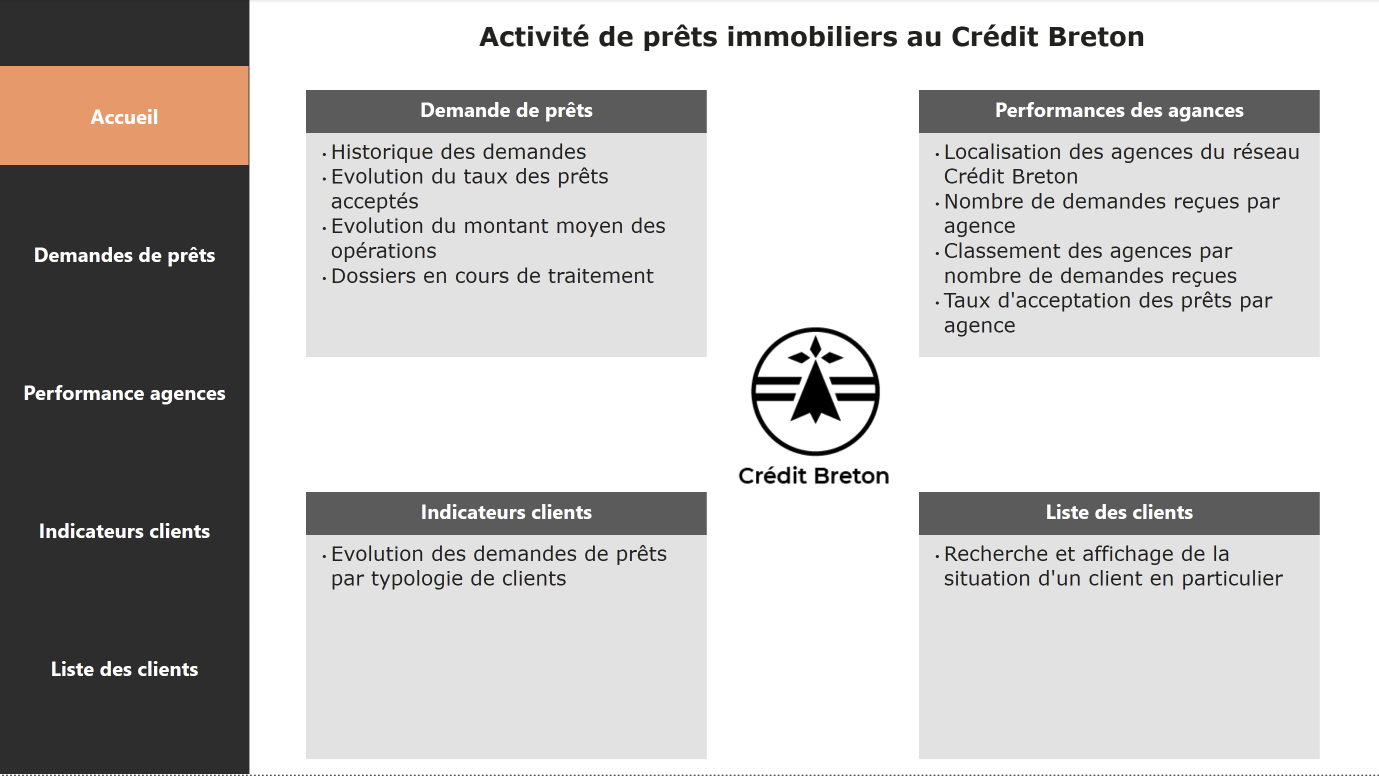

The dashboard page shown, as its layout file describes it:
{"tool":"powerbi","page":{"name":"Accueil","canvas":[1280,720],"ordinal":0},"visuals":[{"type":"shape","box":[0,0,231.7,719.5],"z":0},{"type":"textbox","box":[283.7,84.1,372,40.1],"z":0,"group":"g1"},{"type":"textbox","box":[853.2,84.7,372,40.1],"z":0,"group":"g2"},{"type":"textbox","box":[283.7,457.3,372,40.1],"z":0,"group":"g3"},{"type":"textbox","box":[853.2,457.9,372,40.1],"z":0,"group":"g4"},{"type":"pageNavigator","box":[0,62.2,231.7,607.3],"z":1000,"group":"g5"},{"type":"textbox","box":[283.7,124.2,372,207.9],"z":1000,"group":"g1"},{"type":"textbox","box":[853.2,124.8,372,207.9],"z":1000,"group":"g2"},{"type":"image","box":[644.1,256.1,249.2,243.1],"z":1000},{"type":"textbox","box":[283.7,497.4,372,207.9],"z":1000,"group":"g3"},{"type":"textbox","box":[853.2,498,372,207.9],"z":1000,"group":"g4"},{"type":"textbox","box":[295.1,14.6,917.1,47.6],"z":2000},{"type":"group","id":"g1","title":"Groupe 1","box":[283.7,84.1,372,248],"z":3000},{"type":"group","id":"g2","title":"Groupe 1","box":[853.2,84.7,372,248],"z":4000},{"type":"group","id":"g3","title":"Groupe 1","box":[283.7,457.3,372,248],"z":5000},{"type":"group","id":"g4","title":"Groupe 1","box":[853.2,457.9,372,248],"z":6000},{"type":"group","id":"g5","title":"Groupe 2","box":[0,62.2,231.7,607.3],"z":7000}]}

Visuals, with their boxes in screenshot pixels (x1, y1, x2, y2), scaled from the page's 1280x720 canvas onto the 1379x776 screenshot:
shape: {"x1": 0, "y1": 0, "x2": 250, "y2": 775}
textbox: {"x1": 306, "y1": 91, "x2": 706, "y2": 134}
textbox: {"x1": 919, "y1": 91, "x2": 1320, "y2": 135}
textbox: {"x1": 306, "y1": 493, "x2": 706, "y2": 536}
textbox: {"x1": 919, "y1": 494, "x2": 1320, "y2": 537}
pageNavigator: {"x1": 0, "y1": 67, "x2": 250, "y2": 722}
textbox: {"x1": 306, "y1": 134, "x2": 706, "y2": 358}
textbox: {"x1": 919, "y1": 135, "x2": 1320, "y2": 359}
image: {"x1": 694, "y1": 276, "x2": 962, "y2": 538}
textbox: {"x1": 306, "y1": 536, "x2": 706, "y2": 760}
textbox: {"x1": 919, "y1": 537, "x2": 1320, "y2": 761}
textbox: {"x1": 318, "y1": 16, "x2": 1306, "y2": 67}
"Groupe 1" group: {"x1": 306, "y1": 91, "x2": 706, "y2": 358}
"Groupe 1" group: {"x1": 919, "y1": 91, "x2": 1320, "y2": 359}
"Groupe 1" group: {"x1": 306, "y1": 493, "x2": 706, "y2": 760}
"Groupe 1" group: {"x1": 919, "y1": 494, "x2": 1320, "y2": 761}
"Groupe 2" group: {"x1": 0, "y1": 67, "x2": 250, "y2": 722}
